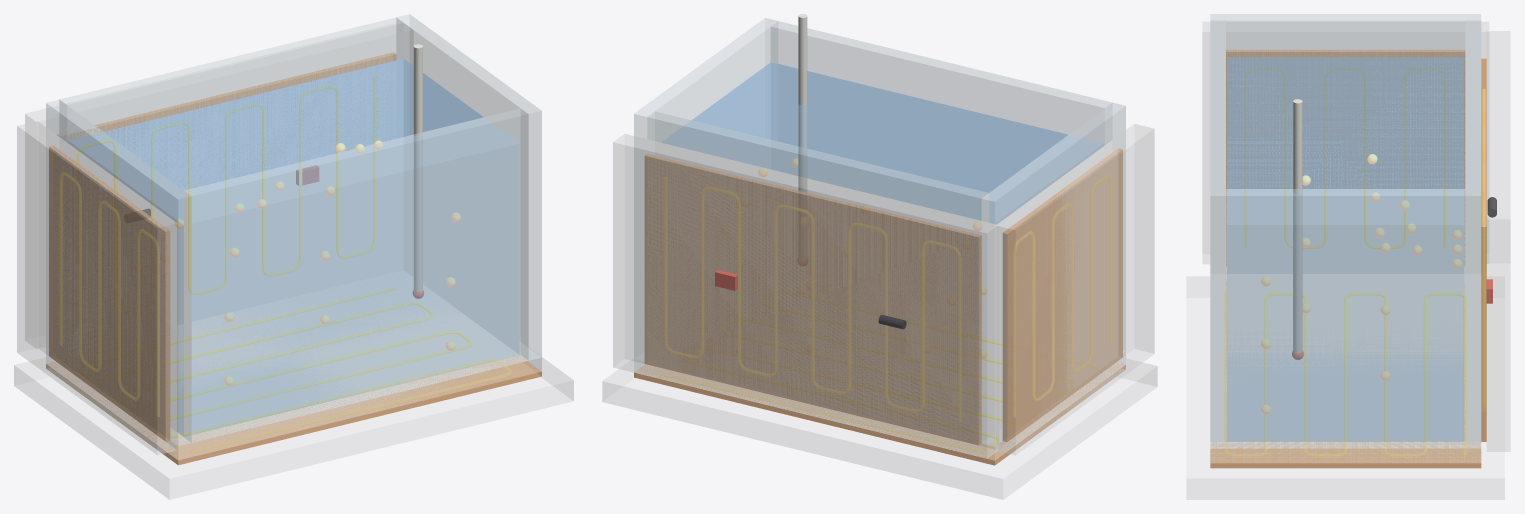
Rendered from wall.glb.
The picture shows the model from 3 angles, left to right: view 1: azimuth 30°, elevation 25°; view 2: azimuth 150°, elevation 25°; view 3: azimuth 270°, elevation 25°; orthographic projection. The views are drawn at different scales.
Parts seen in each view (by area): view 1: 药液, 石英槽_前, 保温层左, 石英槽_后, 左面加热器, 保温层底, 保温层背, 石英槽_右, 石英槽_左, 底面加热器, 石英槽_底, 底面线路 (+4 smaller); view 2: 保温层背, 背面加热器, 保温层左, 药液, 石英槽_前, 左面加热器, 保温层底, 石英槽_后, 石英槽_右, 石英槽_左, 底面加热器, 石英槽_底 (+4 smaller); view 3: 药液, 石英槽_右, 左面加热器, 保温层底, 石英槽_左, 保温层背, 保温层左, 底面加热器, 石英槽_后, 石英槽_前, 石英槽_底, 底面线路 (+4 smaller).
Boxes of the visible parts, <box> form: 药液: <box>68,59,519,435</box>; 石英槽_前: <box>184,108,528,442</box>; 保温层左: <box>17,121,176,454</box>; 石英槽_后: <box>59,17,403,189</box>; 左面加热器: <box>49,145,170,441</box>; 保温层底: <box>14,357,573,499</box>; 保温层背: <box>25,23,412,348</box>; 石英槽_右: <box>396,14,541,360</box>; 石英槽_左: <box>46,100,191,445</box>; 底面加热器: <box>46,355,541,465</box>; 石英槽_底: <box>46,348,541,459</box>; 底面线路: <box>170,287,510,452</box>; 保温层背: <box>613,134,998,458</box>; 背面加热器: <box>644,154,981,445</box>; 保温层左: <box>996,124,1154,455</box>; 药液: <box>662,62,1103,224</box>; 石英槽_前: <box>771,21,1112,192</box>; 左面加热器: <box>1002,148,1122,441</box>; 保温层底: <box>602,358,1157,499</box>; 石英槽_后: <box>647,111,988,234</box>; 石英槽_右: <box>634,18,777,360</box>; 石英槽_左: <box>982,103,1125,446</box>; 底面加热器: <box>634,363,1125,465</box>; 石英槽_底: <box>634,351,1125,460</box>; 药液: <box>1227,57,1464,441</box>; 石英槽_右: <box>1210,189,1480,448</box>; 左面加热器: <box>1226,49,1465,266</box>; 保温层底: <box>1186,276,1504,499</box>; 石英槽_左: <box>1210,14,1480,270</box>; 保温层背: <box>1487,31,1510,451</box>; 保温层左: <box>1202,22,1488,263</box>; 底面加热器: <box>1210,281,1481,468</box>; 石英槽_后: <box>1465,21,1480,441</box>; 石英槽_前: <box>1210,21,1225,441</box>; 石英槽_底: <box>1210,274,1480,462</box>; 底面线路: <box>1225,292,1466,456</box>.
Size of the model in its own units: 1.21 by 0.964 by 0.814.
